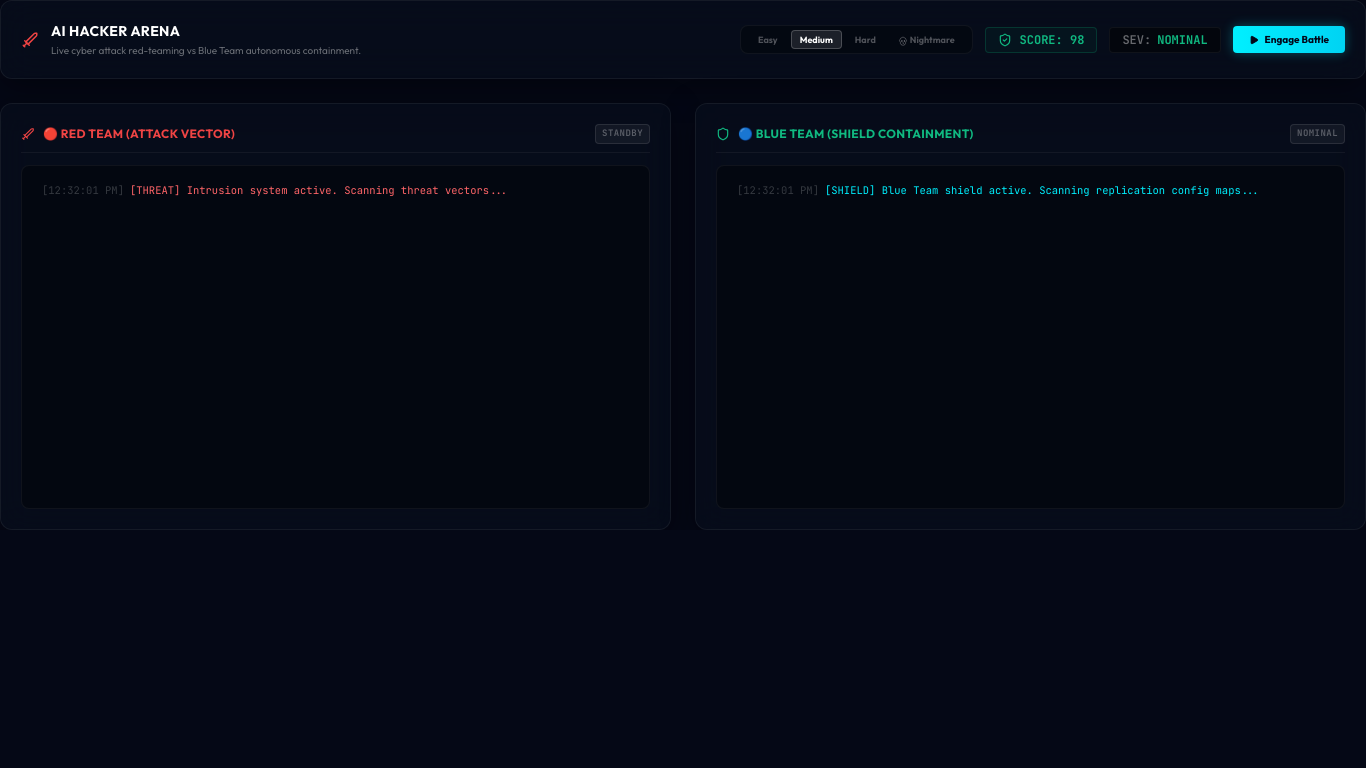
Scenario: HackerArenaModule › difficulty selector › changes button text for nightmare mode
Click the button "Nightmare".
click(926, 40)  # box [889,30,964,49]
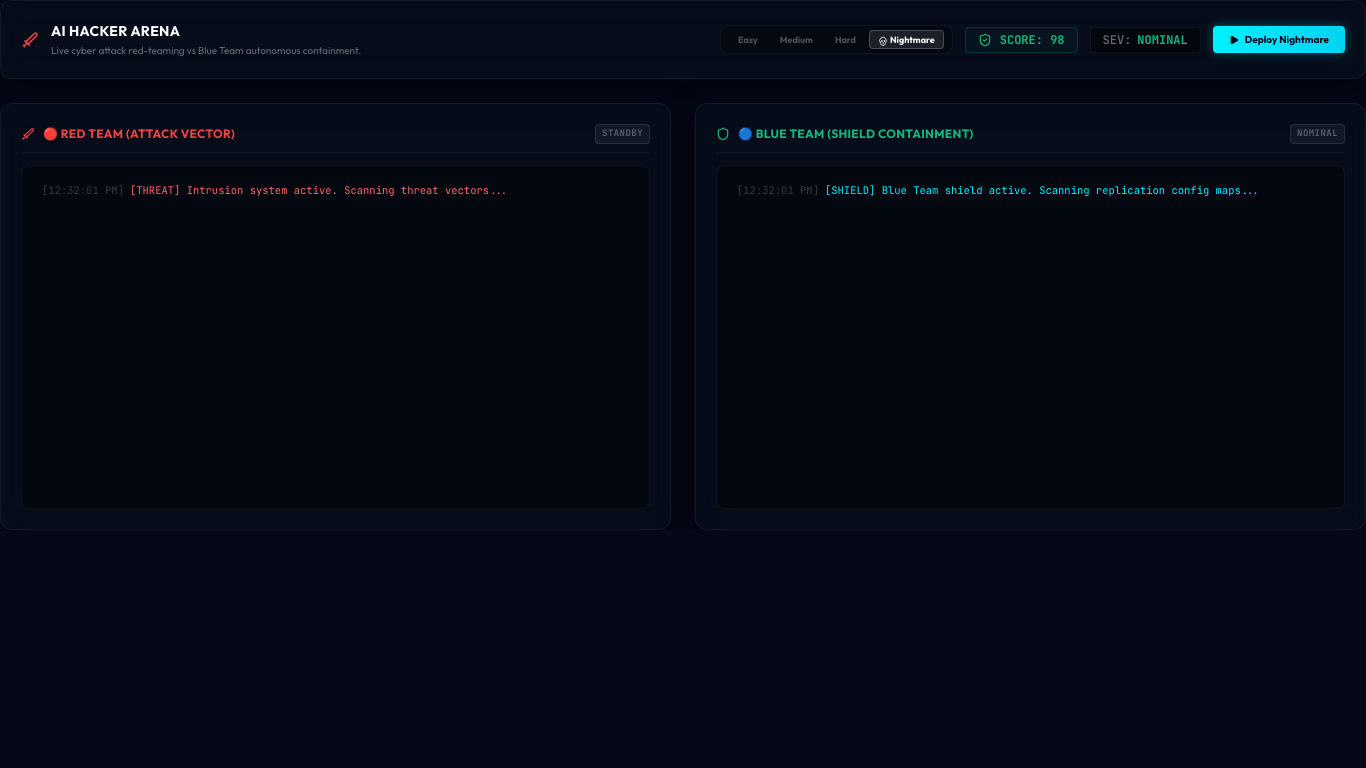
Expected: the button "Deploy Nightmare" is shown, [1213,26,1345,53]
